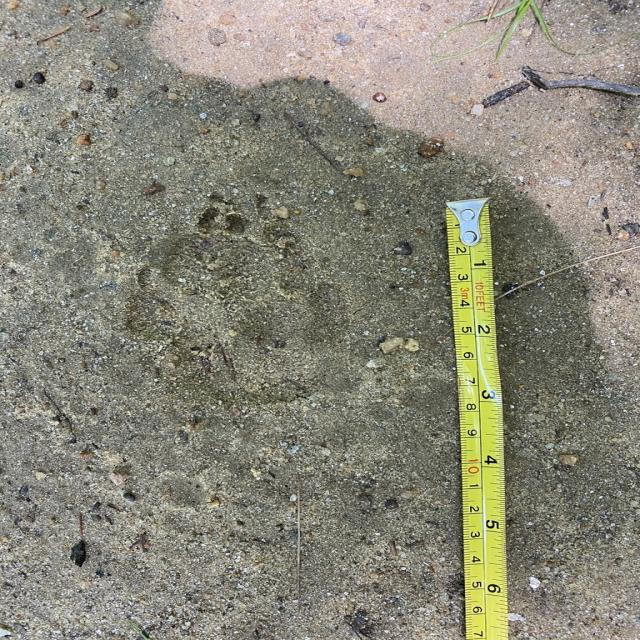canid: (135, 216, 288, 390)
